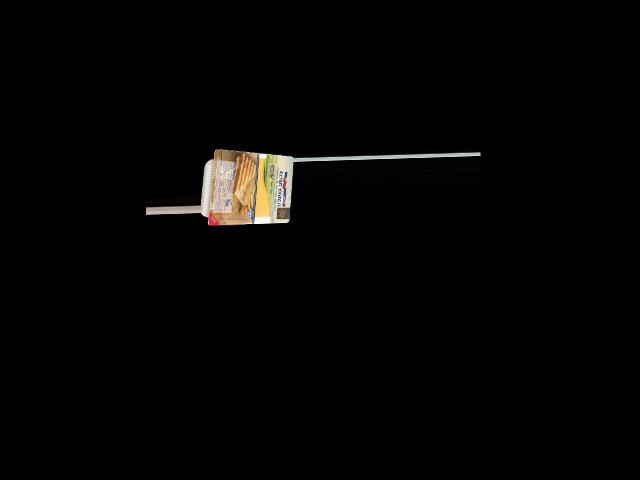cheese: (198, 149, 294, 222)
